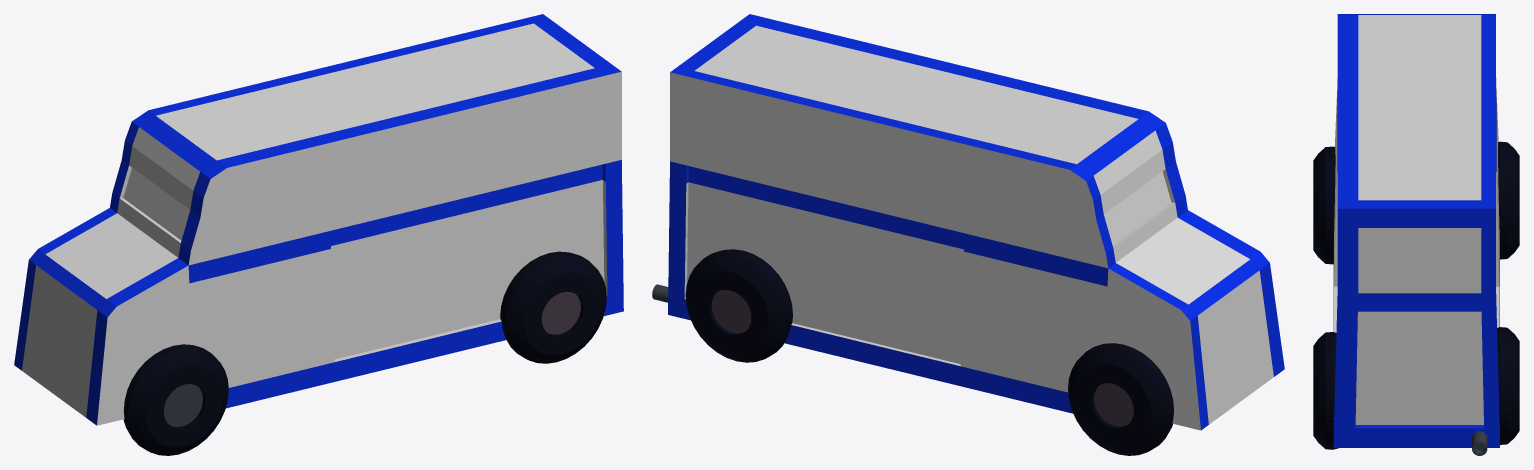
Rendered from Car.fbx.
3 renders of one model, left to right at view 1: azimuth 30°, elevation 25°; view 2: azimuth 150°, elevation 25°; view 3: azimuth 270°, elevation 25°, orthographic.
Parts seen in each view (by area): view 1: Cube, Cylinder.002, Cylinder.001; view 2: Cube, Cylinder.003, Cylinder.004; view 3: Cube, Cylinder.002, Cylinder.001, Cylinder.003, Cylinder.004, Cylinder.
Boxes of the visible parts, box(x1,y1,x2,y2) form: Cube: box(14, 14, 623, 425); Cylinder.002: box(500, 251, 606, 363); Cylinder.001: box(123, 344, 228, 455); Cube: box(668, 14, 1284, 430); Cylinder.003: box(685, 249, 792, 362); Cylinder.004: box(1068, 343, 1173, 455); Cube: box(1333, 14, 1499, 447); Cylinder.002: box(1313, 332, 1338, 449); Cylinder.001: box(1313, 146, 1335, 264); Cylinder.003: box(1497, 327, 1519, 444); Cylinder.004: box(1498, 141, 1519, 259); Cylinder: box(1472, 431, 1487, 455).
Bounding box in the file's own units: 765 × 359 × 248.
